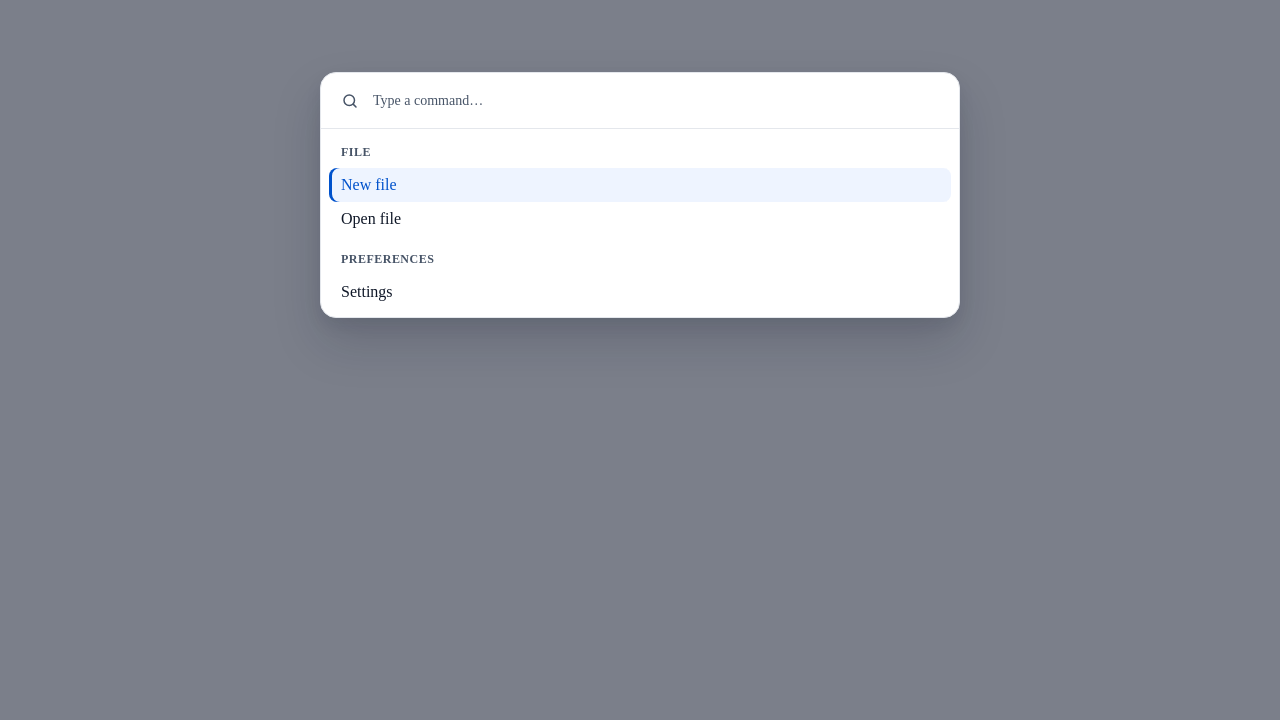
Command › shows the empty message when the query matches nothing
Type "zzzzz" into the dropdown at (655, 100), box [371,89,939,112]
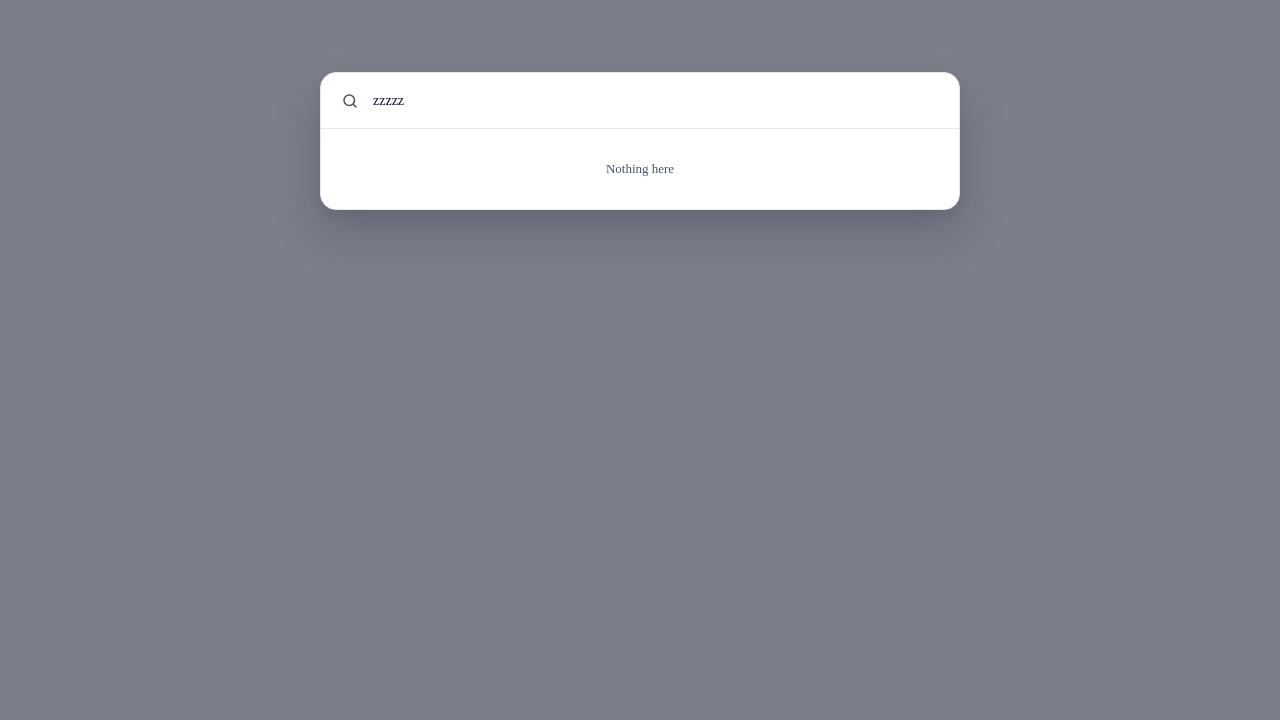
Expected: no options are shown
Expected: the list item "Nothing here" is shown, [606,161,674,176]
